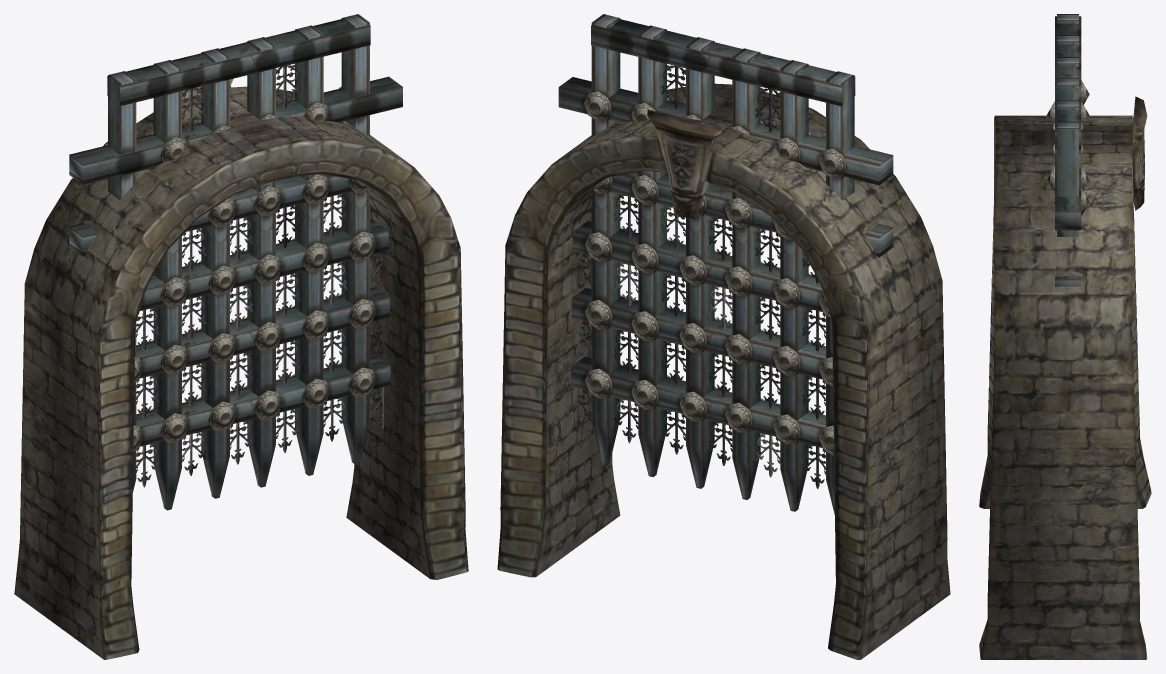
Rendered from Broken_irongate_bandpose.FBX.
The picture shows the model from 3 angles, left to right: view 1: azimuth 30°, elevation 25°; view 2: azimuth 150°, elevation 25°; view 3: azimuth 270°, elevation 25°; orthographic projection. The views are drawn at different scales.
Visible parts, largest first — view 1: Bone002, Dungeon_BigGate01; view 2: Bone002, Dungeon_BigGate01; view 3: Bone002, Dungeon_BigGate01.
Boxes of the visible parts, x1,y1,x2,y2 form: Bone002: (14,78,468,659); Dungeon_BigGate01: (69,14,402,510); Bone002: (497,83,950,659); Dungeon_BigGate01: (558,14,893,514); Bone002: (979,96,1151,659); Dungeon_BigGate01: (1046,14,1089,286).
Size of the model in its own units: 754 by 1053 by 327.
